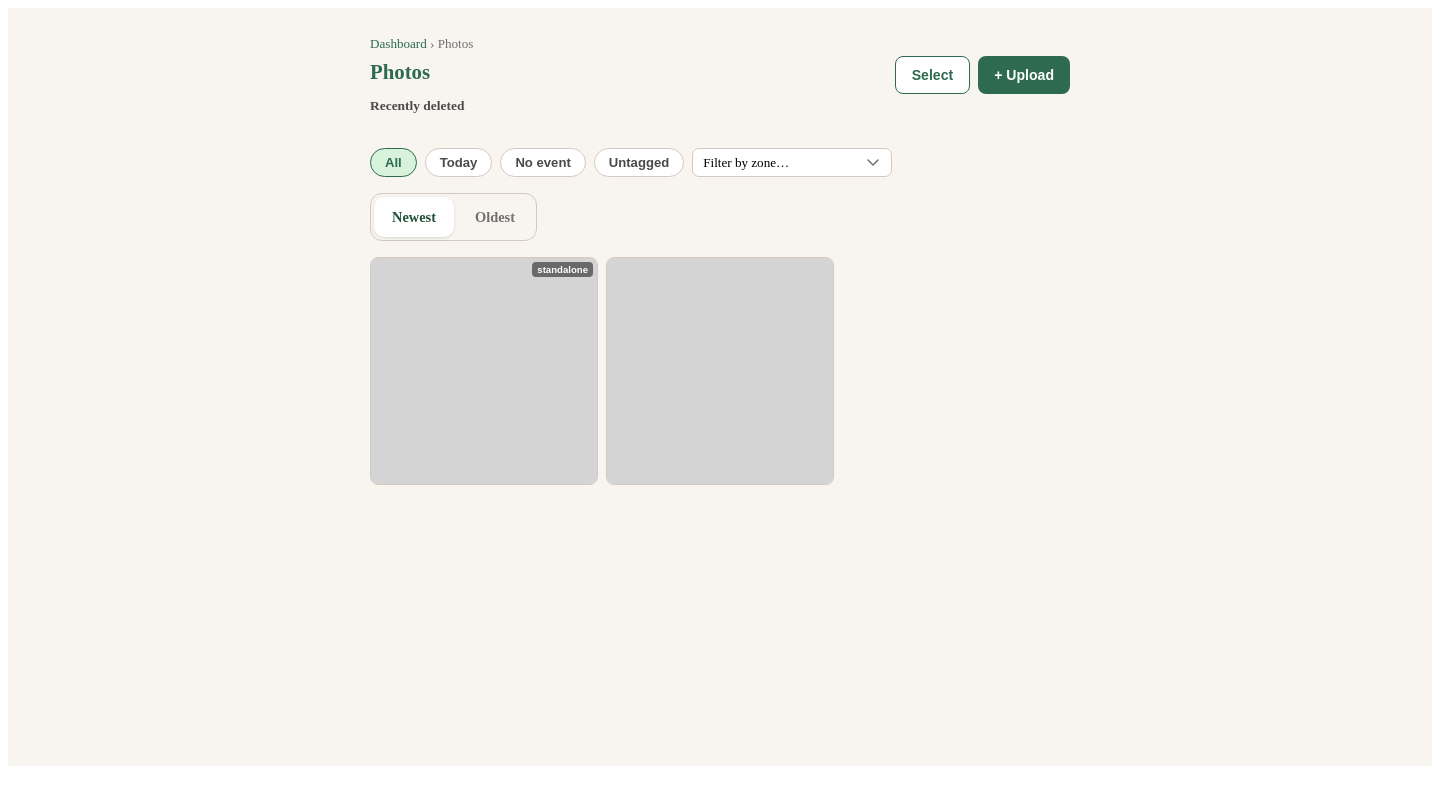
Test: W-PHOTODEL — nothing is written without a confirm › Cancel closes the confirm, writes nothing, and leaves the photo modal open behind it
The image size is (1440, 810).
Click the button "standalone" at (484, 371), box [370,257,598,485]
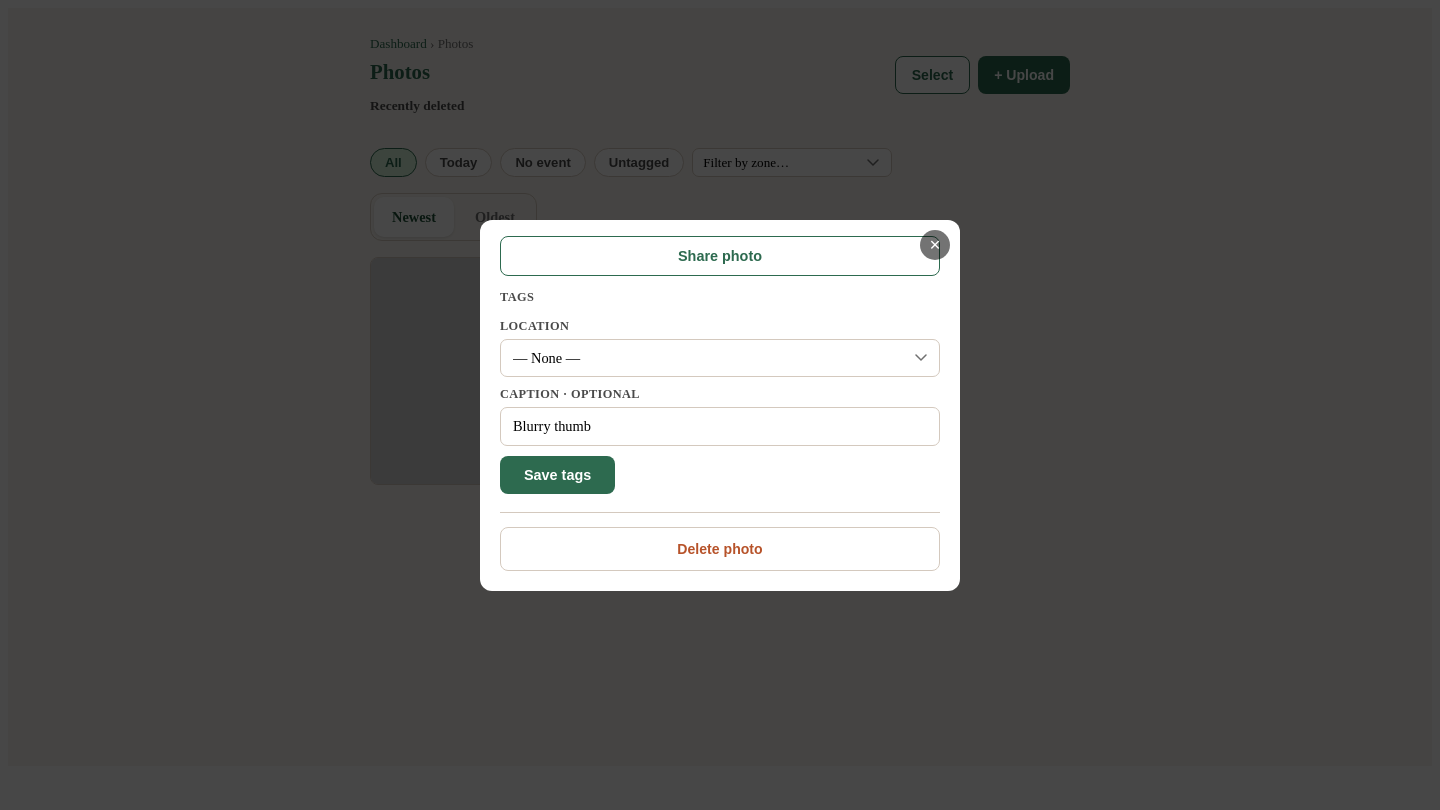
Click the button with test id "pl-photo-delete" at (720, 548), box [500,526,940,570]
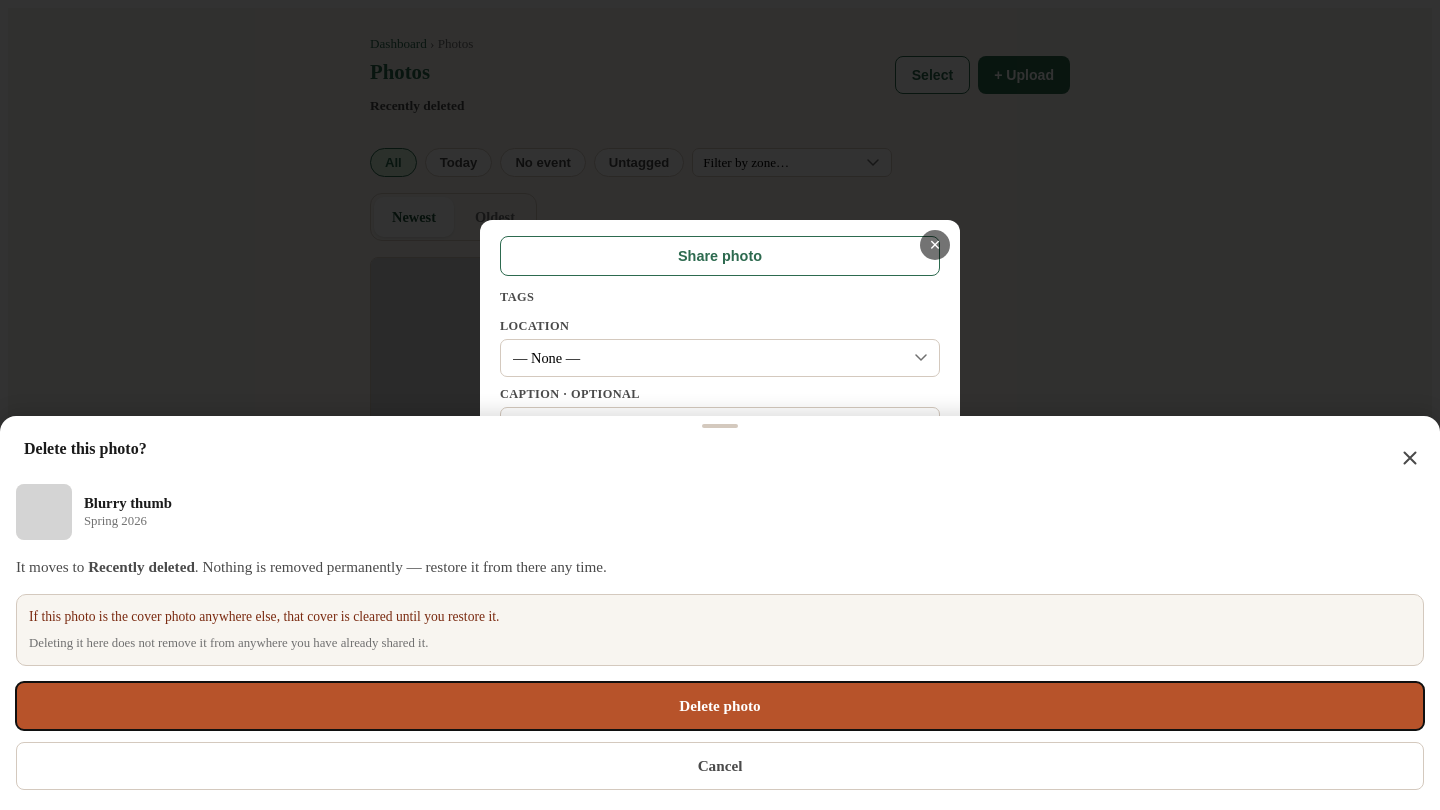
Click the button with test id "photo-delete-cancel" at (720, 766), box [16,742,1424,790]
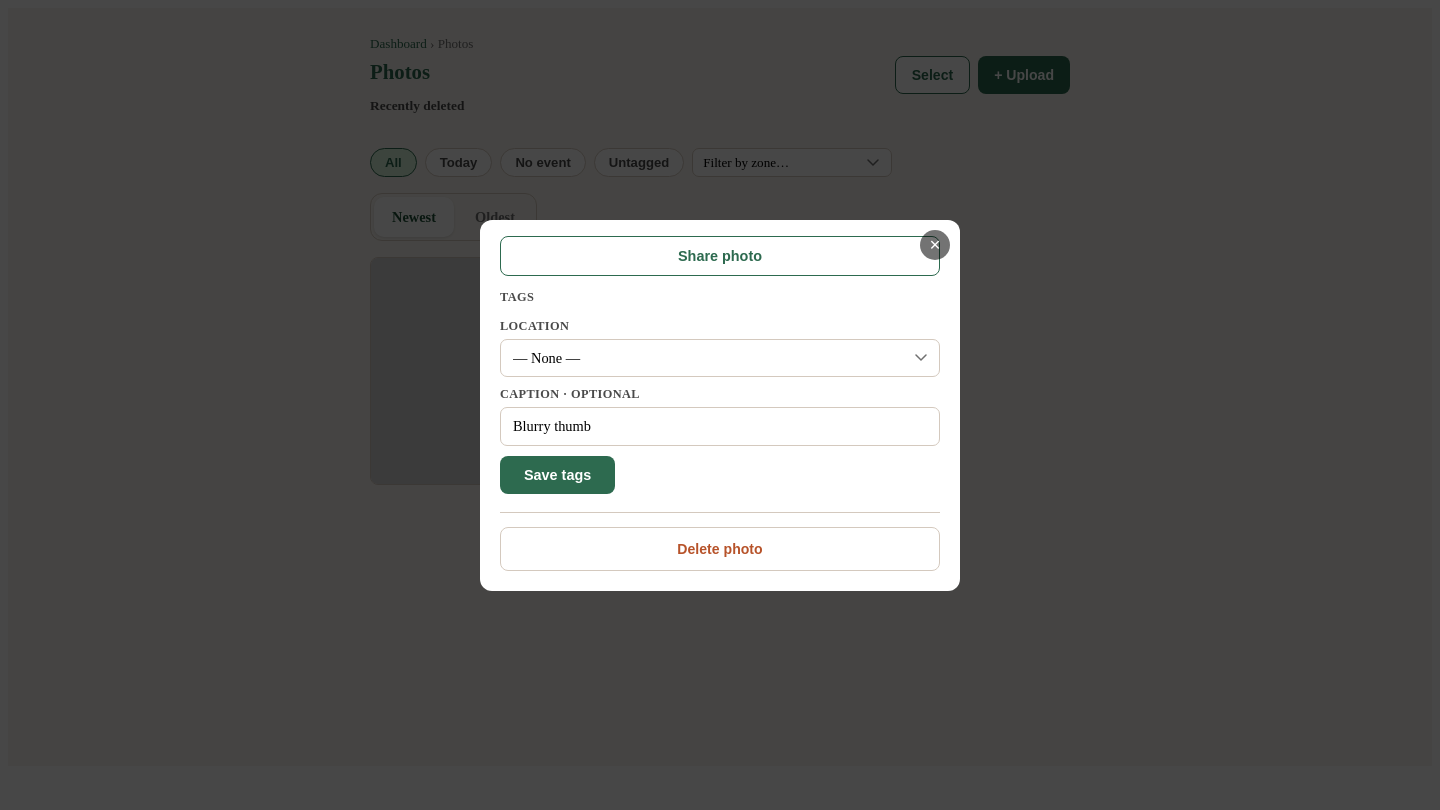
Check: the element with test id "pl-modal-body" is shown, box [480,220,960,590]
Check: the button with test id "photo-delete-confirm" is gone
